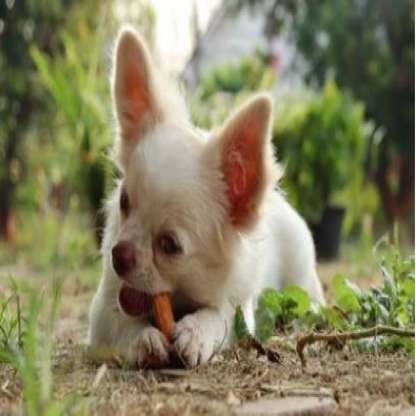chihuahua: (81, 23, 334, 369)
